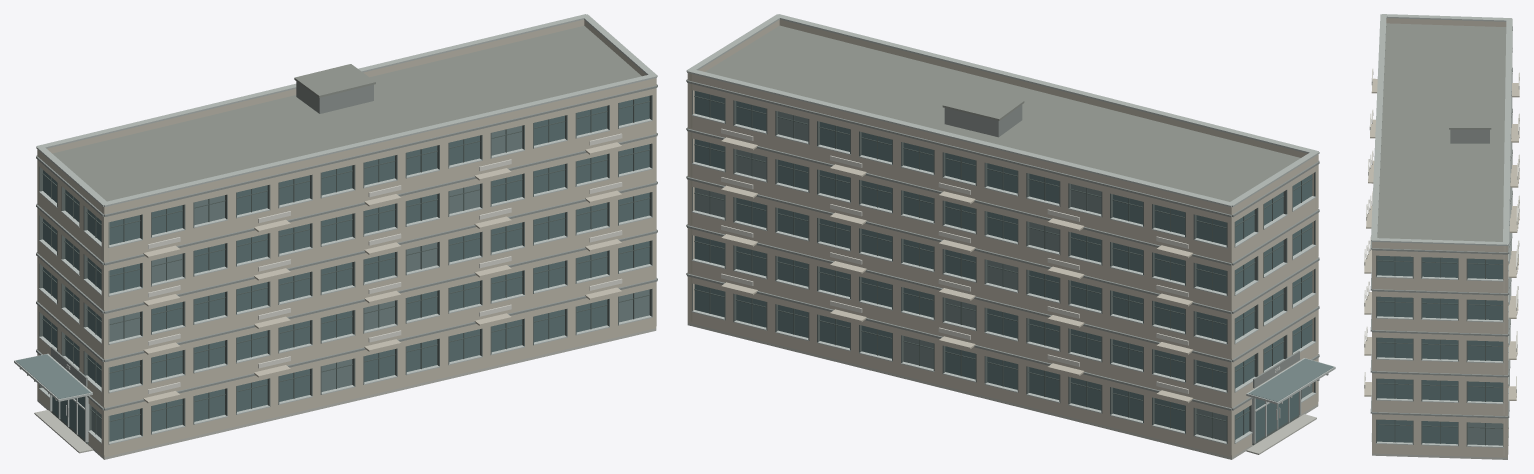
File: mapped_1135360055.glb
3 views of the same model, side by side, from view 1: azimuth 30°, elevation 25°; view 2: azimuth 150°, elevation 25°; view 3: azimuth 270°, elevation 25° (orthographic). The views are drawn at different scales.
Parts seen in each view (by area): view 1: mapped_1135360055_HousingWarm, mapped_1135360055_WindowGlass, mapped_1135360055_FacultyRoof, mapped_1135360055_FacultyDarkPanel, mapped_1135360055_WindowReveal, mapped_1135360055_WindowAluminium, mapped_1135360055_WindowGlassLight, mapped_1135360055_Teaching5TileJoint, mapped_1135360055_WindowRubber, mapped_1135360055_WhiteTrim, mapped_1135360055_EntryStone; view 2: mapped_1135360055_HousingWarm, mapped_1135360055_WindowGlass, mapped_1135360055_FacultyRoof, mapped_1135360055_FacultyDarkPanel, mapped_1135360055_WindowReveal, mapped_1135360055_WindowAluminium, mapped_1135360055_WindowGlassLight, mapped_1135360055_Teaching5TileJoint, mapped_1135360055_WindowRubber, mapped_1135360055_WhiteTrim, mapped_1135360055_EntryStone; view 3: mapped_1135360055_FacultyRoof, mapped_1135360055_HousingWarm, mapped_1135360055_WindowGlass, mapped_1135360055_Teaching5TileJoint, mapped_1135360055_FacultyDarkPanel, mapped_1135360055_WindowAluminium, mapped_1135360055_WindowRubber, mapped_1135360055_WindowReveal, mapped_1135360055_WhiteTrim, mapped_1135360055_WindowGlassLight, mapped_1135360055_EntryStone.
Boxes of the visible parts, bbox=[...] form: mapped_1135360055_HousingWarm: bbox=[37, 19, 656, 457]; mapped_1135360055_WindowGlass: bbox=[43, 96, 649, 441]; mapped_1135360055_FacultyRoof: bbox=[52, 26, 641, 201]; mapped_1135360055_FacultyDarkPanel: bbox=[36, 81, 657, 410]; mapped_1135360055_WindowReveal: bbox=[39, 95, 652, 444]; mapped_1135360055_WindowAluminium: bbox=[14, 118, 652, 444]; mapped_1135360055_WindowGlassLight: bbox=[16, 125, 649, 438]; mapped_1135360055_Teaching5TileJoint: bbox=[36, 14, 657, 206]; mapped_1135360055_WindowRubber: bbox=[42, 99, 650, 438]; mapped_1135360055_WhiteTrim: bbox=[148, 133, 622, 394]; mapped_1135360055_EntryStone: bbox=[34, 328, 656, 459]; mapped_1135360055_HousingWarm: bbox=[687, 19, 1318, 457]; mapped_1135360055_WindowGlass: bbox=[694, 91, 1312, 441]; mapped_1135360055_FacultyRoof: bbox=[705, 25, 1300, 201]; mapped_1135360055_FacultyDarkPanel: bbox=[686, 79, 1319, 410]; mapped_1135360055_WindowReveal: bbox=[692, 90, 1315, 445]; mapped_1135360055_WindowAluminium: bbox=[691, 113, 1335, 444]; mapped_1135360055_WindowGlassLight: bbox=[694, 111, 1333, 441]; mapped_1135360055_Teaching5TileJoint: bbox=[686, 14, 1319, 207]; mapped_1135360055_WindowRubber: bbox=[694, 94, 1312, 438]; mapped_1135360055_WhiteTrim: bbox=[721, 128, 1188, 393]; mapped_1135360055_EntryStone: bbox=[687, 323, 1318, 459]; mapped_1135360055_FacultyRoof: bbox=[1377, 23, 1506, 241]; mapped_1135360055_HousingWarm: bbox=[1364, 18, 1519, 457]; mapped_1135360055_WindowGlass: bbox=[1377, 255, 1502, 444]; mapped_1135360055_Teaching5TileJoint: bbox=[1371, 14, 1512, 245]; mapped_1135360055_FacultyDarkPanel: bbox=[1370, 27, 1512, 418]; mapped_1135360055_WindowAluminium: bbox=[1371, 254, 1508, 447]; mapped_1135360055_WindowRubber: bbox=[1377, 256, 1502, 445]; mapped_1135360055_WindowReveal: bbox=[1376, 255, 1503, 446]; mapped_1135360055_WhiteTrim: bbox=[1364, 68, 1519, 392]; mapped_1135360055_WindowGlassLight: bbox=[1467, 422, 1502, 445]; mapped_1135360055_EntryStone: bbox=[1372, 453, 1507, 459].
Size of the model in its own units: 43.6 by 19.28 by 11.79.
